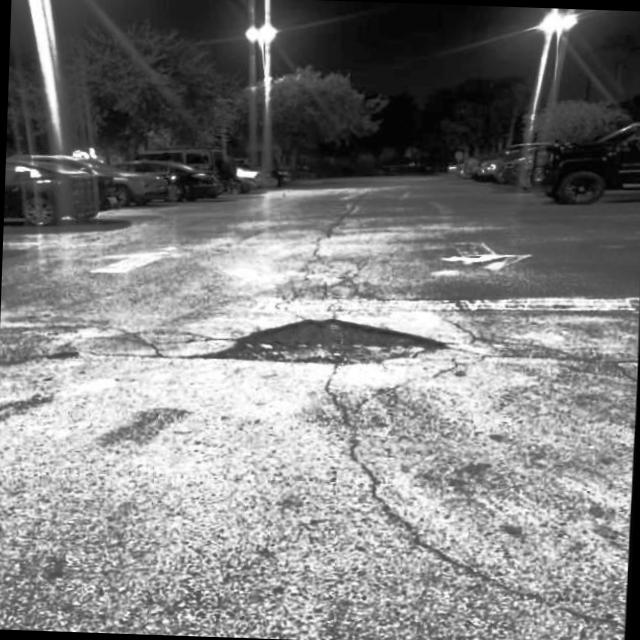Pothole: (216, 286, 444, 403)
